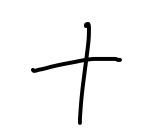plus: (31, 22, 119, 123)
